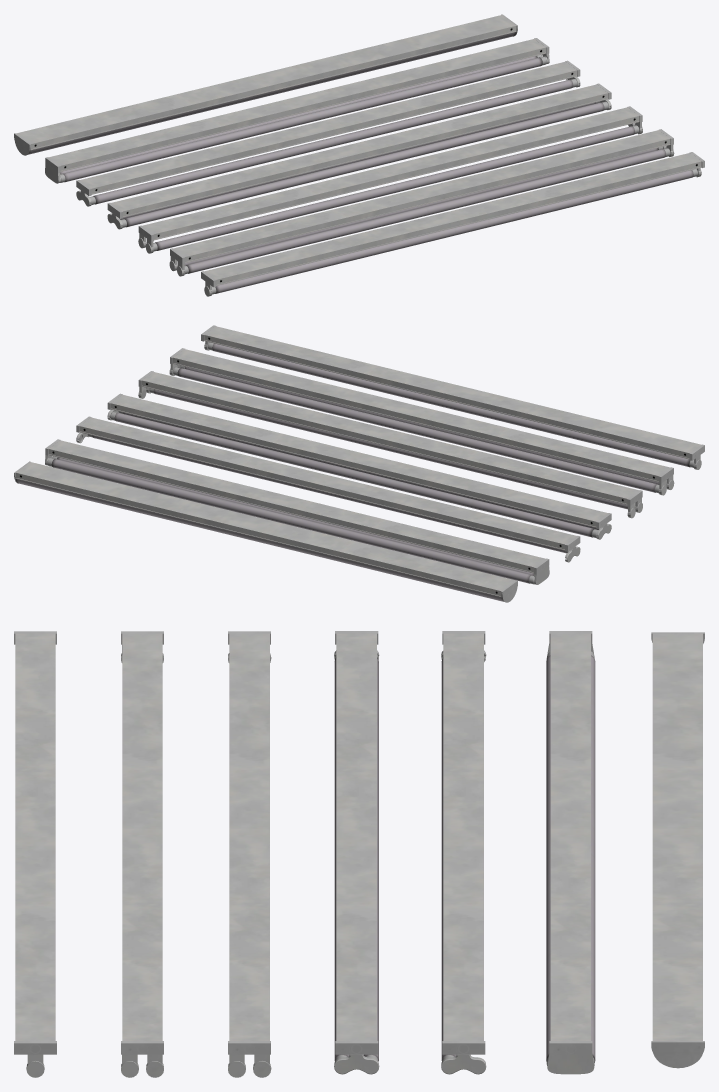
Rendered from mounted_fluorescent_lights.glb.
3 views of the same model, one above another, from view 1: azimuth 30°, elevation 25°; view 2: azimuth 150°, elevation 25°; view 3: azimuth 270°, elevation 25° (orthographic). The views are drawn at different scales.
Parts seen in each view (by area): view 1: mounted_fluorescent_lights_b, mounted_fluorescent_lights_f, mounted_fluorescent_lights_d, mounted_fluorescent_lights_c, mounted_fluorescent_lights_e, mounted_fluorescent_lights_a, mounted_fluorescent_lights_g; view 2: mounted_fluorescent_lights_b, mounted_fluorescent_lights_f, mounted_fluorescent_lights_d, mounted_fluorescent_lights_a, mounted_fluorescent_lights_g, mounted_fluorescent_lights_c, mounted_fluorescent_lights_e; view 3: mounted_fluorescent_lights_g, mounted_fluorescent_lights_f, mounted_fluorescent_lights_d, mounted_fluorescent_lights_e, mounted_fluorescent_lights_c, mounted_fluorescent_lights_b, mounted_fluorescent_lights_a.
Part boxes in pixels (x1,y1,x2,y2): mounted_fluorescent_lights_b: [169, 129, 674, 276]; mounted_fluorescent_lights_f: [45, 38, 549, 183]; mounted_fluorescent_lights_d: [107, 83, 611, 229]; mounted_fluorescent_lights_c: [138, 106, 642, 253]; mounted_fluorescent_lights_e: [76, 60, 580, 206]; mounted_fluorescent_lights_a: [201, 152, 704, 296]; mounted_fluorescent_lights_g: [14, 14, 517, 155]; mounted_fluorescent_lights_b: [169, 348, 674, 495]; mounted_fluorescent_lights_f: [45, 439, 549, 584]; mounted_fluorescent_lights_d: [107, 393, 611, 539]; mounted_fluorescent_lights_a: [201, 325, 704, 469]; mounted_fluorescent_lights_g: [14, 461, 517, 602]; mounted_fluorescent_lights_c: [138, 371, 642, 518]; mounted_fluorescent_lights_e: [76, 416, 580, 562]; mounted_fluorescent_lights_g: [651, 632, 704, 1068]; mounted_fluorescent_lights_f: [546, 631, 595, 1074]; mounted_fluorescent_lights_d: [334, 631, 379, 1074]; mounted_fluorescent_lights_e: [441, 631, 486, 1074]; mounted_fluorescent_lights_c: [228, 631, 271, 1077]; mounted_fluorescent_lights_b: [121, 631, 163, 1077]; mounted_fluorescent_lights_a: [14, 631, 56, 1077].
Bounding box in the file's own units: 0.9122 × 0.0353 × 0.6455.
2 materials, 2 textured.
